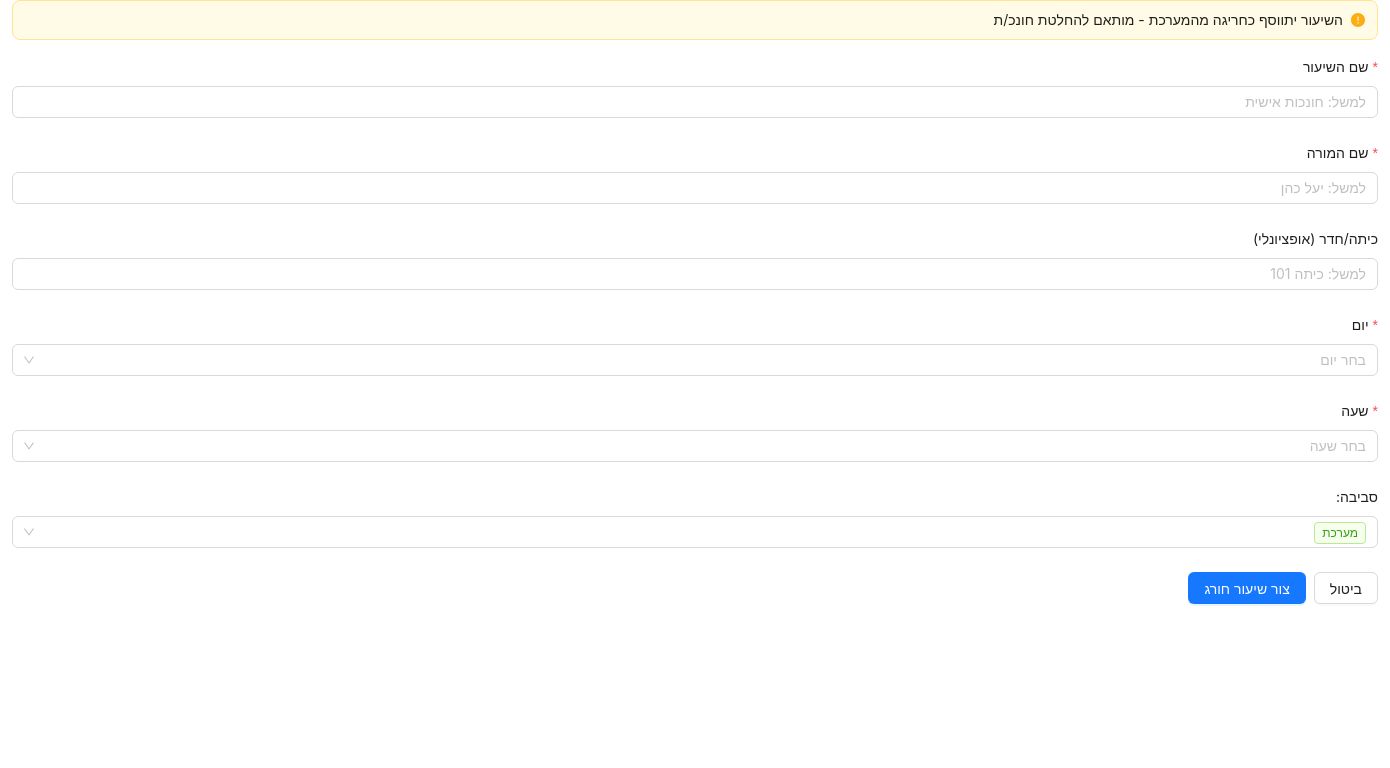
Test: ScheduleOverrideForm time slot picker › marks meeting slots with an icon and muted text
The width and height of the screenshot is (1390, 768).
Press the mouse on the dropdown labelled "שעה" at (704, 446), box top-left (42, 431), bottom-right (1366, 461)
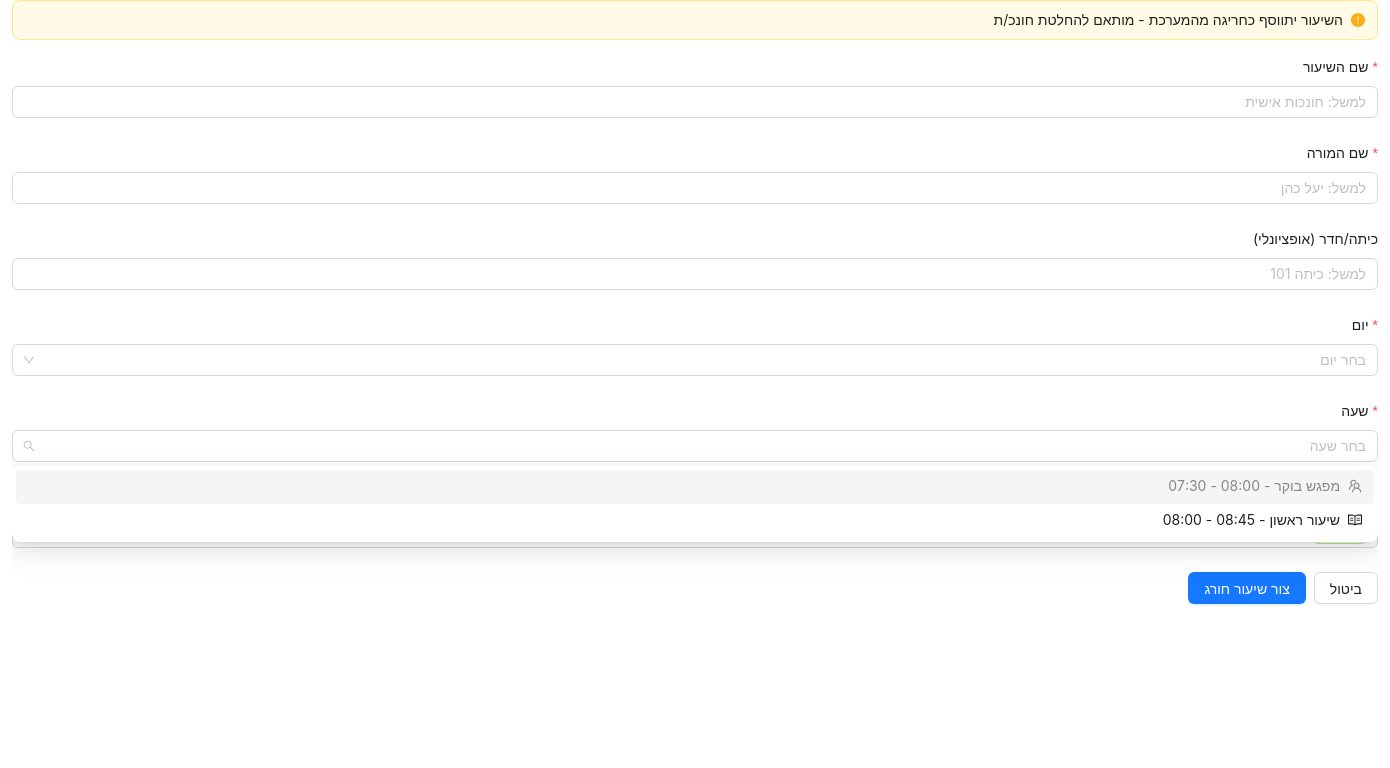
expect the picture named "team" is shown: met, box top-left (1348, 479), bottom-right (1362, 493)
expect the picture named "read" is shown: met, box top-left (1348, 513), bottom-right (1362, 527)
